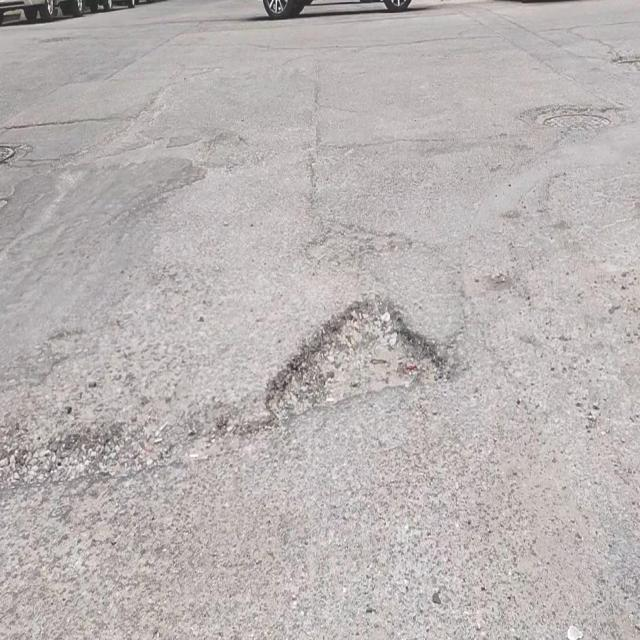Potholes: (261, 293, 453, 433)
